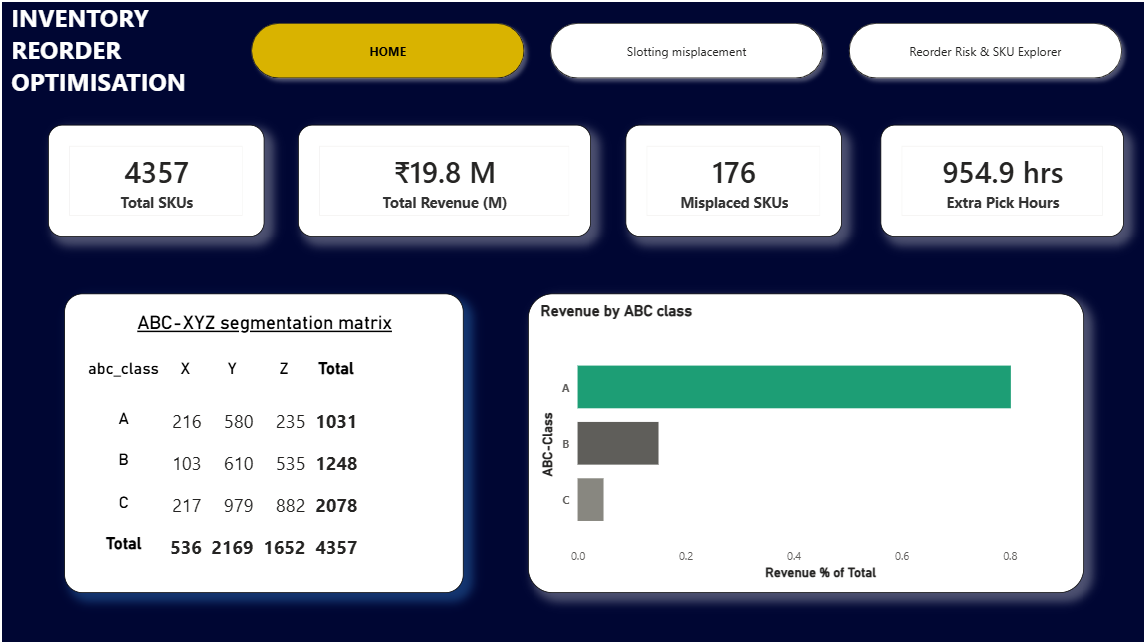

What the dashboard file says about the page in this screenshot:
{"tool":"powerbi","page":{"name":"HOME","canvas":[1280,720],"ordinal":0},"visuals":[{"type":"pageNavigator","box":[275.1,20.6,975.6,79.7],"z":0},{"type":"cardVisual","fields":{"Data":["retail_slotting_db abc_xyz_matrix.Total SKUs"]},"box":[59.9,141.9,237.8,123.4],"z":1000},{"type":"cardVisual","fields":{"Data":["retail_slotting_db abc_xyz_matrix.Total Revenue (M)"]},"box":[335.5,141.4,321.4,123.4],"z":2000},{"type":"cardVisual","fields":{"Data":["retail_slotting_db abc_xyz_matrix.Misplaced SKUs"]},"box":[694.9,141.9,237.8,123.4],"z":3000},{"type":"cardVisual","fields":{"Data":["retail_slotting_db abc_xyz_matrix.Extra Pick Hours"]},"box":[974.3,141.4,267.4,123.4],"z":4000},{"type":"pivotTable","title":"ABC-XYZ segmentation matrix","fields":{"Rows":["retail_slotting_db abc_xyz_matrix.abc_class"],"Columns":["retail_slotting_db abc_xyz_matrix.xyz_class"],"Values":["retail_slotting_db abc_xyz_matrix.Total SKUs"]},"box":[78.4,326.5,438.3,329.1],"z":5000},{"type":"clusteredBarChart","title":"Revenue by ABC class","fields":{"Y":["retail_slotting_db abc_xyz_matrix.Revenue % of Total"],"Category":["retail_slotting_db abc_xyz_matrix.abc_class"]},"box":[587.4,326.5,610.6,329.1],"z":6000},{"type":"textbox","box":[15.4,0,259.7,141.4],"z":7000}]}

Visuals, with their boxes in screenshot pixels (x1, y1, x2, y2), scaled from the page's 1280x720 canvas onto the 1146x644 screenshot:
pageNavigator: {"left": 246, "top": 18, "right": 1120, "bottom": 90}
cardVisual - retail_slotting_db abc_xyz_matrix.Total SKUs: {"left": 54, "top": 127, "right": 267, "bottom": 237}
cardVisual - retail_slotting_db abc_xyz_matrix.Total Revenue (M): {"left": 300, "top": 126, "right": 588, "bottom": 237}
cardVisual - retail_slotting_db abc_xyz_matrix.Misplaced SKUs: {"left": 622, "top": 127, "right": 835, "bottom": 237}
cardVisual - retail_slotting_db abc_xyz_matrix.Extra Pick Hours: {"left": 872, "top": 126, "right": 1112, "bottom": 237}
"ABC-XYZ segmentation matrix" pivotTable: {"left": 70, "top": 292, "right": 463, "bottom": 586}
"Revenue by ABC class" clusteredBarChart: {"left": 526, "top": 292, "right": 1073, "bottom": 586}
textbox: {"left": 14, "top": 0, "right": 246, "bottom": 126}
